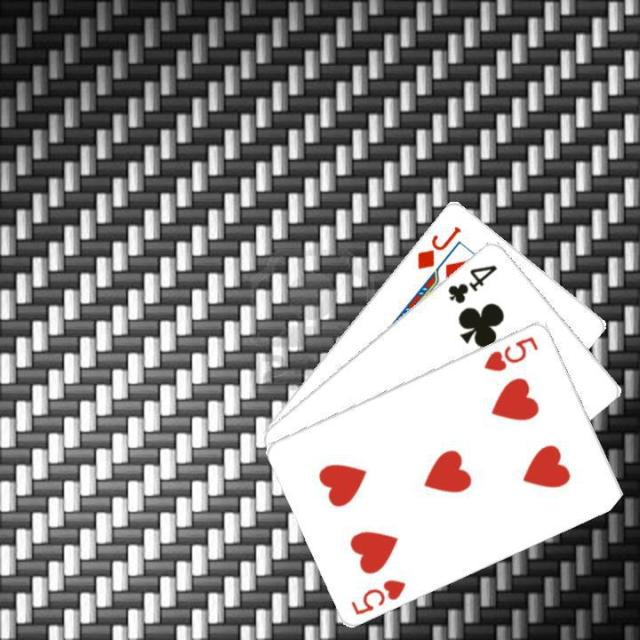4C: (444, 260, 499, 306)
5H: (347, 574, 408, 617), (480, 332, 540, 374)
JD: (413, 222, 463, 270)
